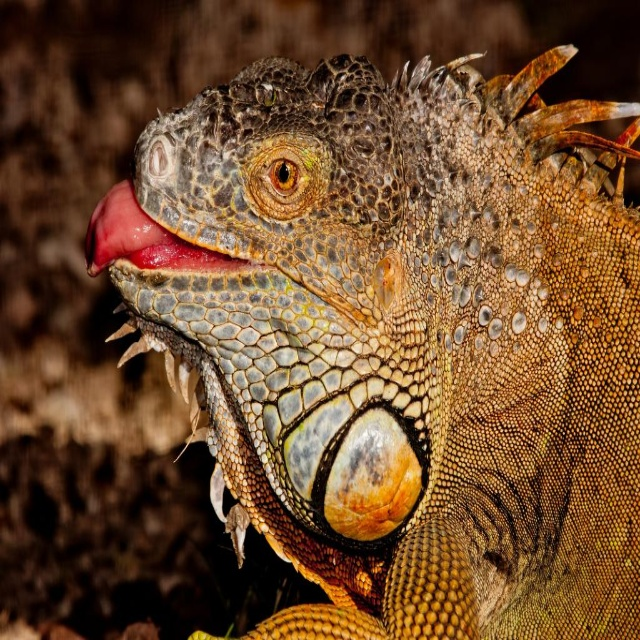Lizard: (90, 8, 621, 640)
